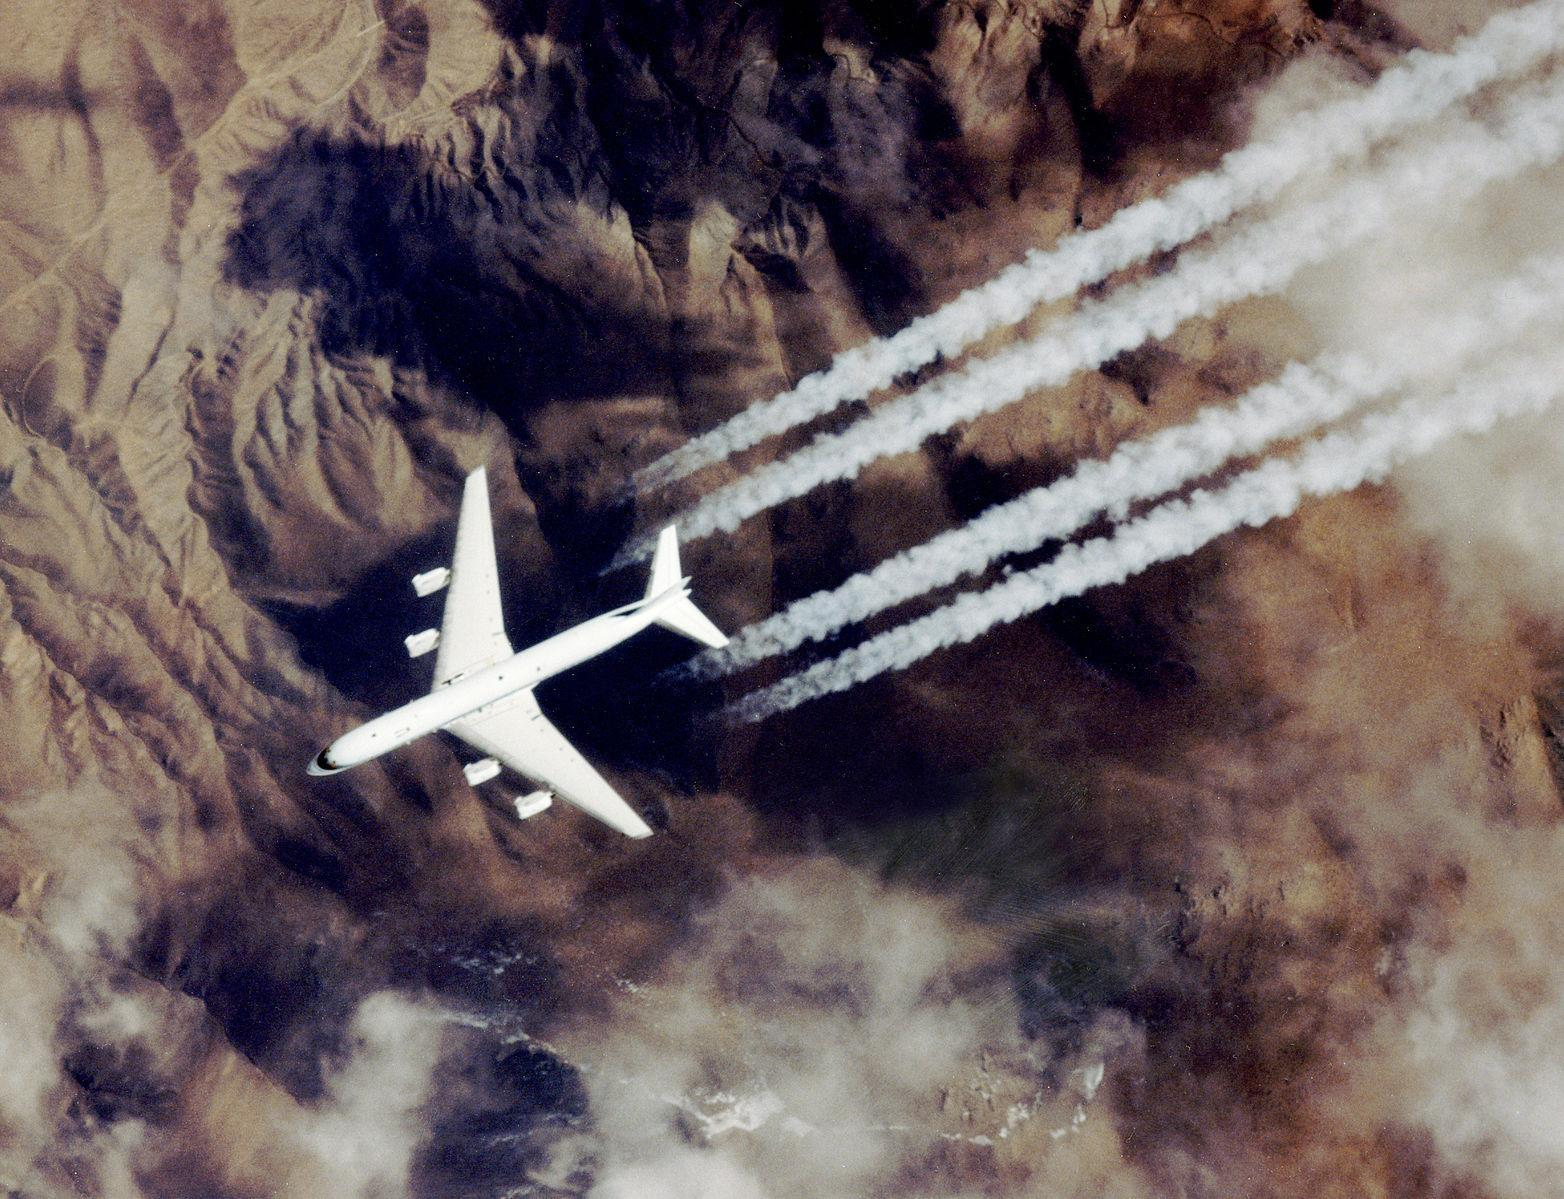Airplane: (298, 457, 744, 849)
